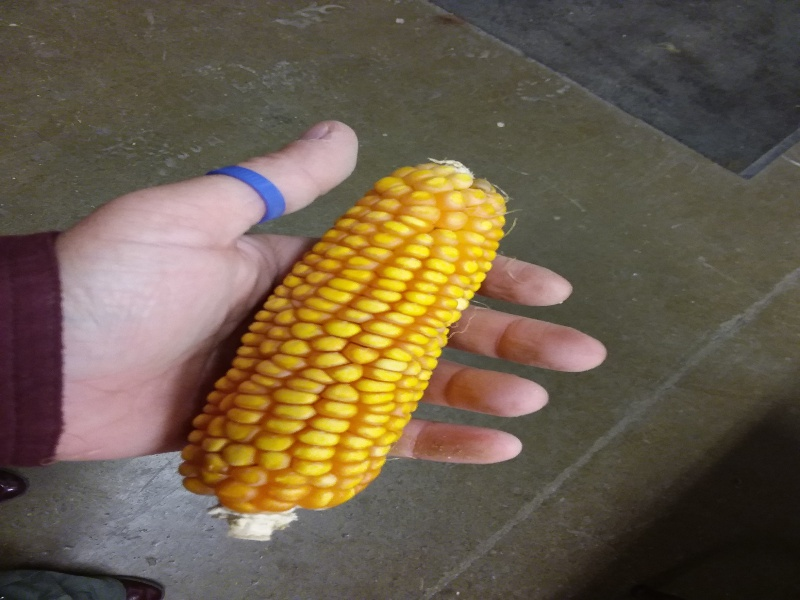band: (204, 161, 287, 221)
ear: (178, 153, 514, 543)
